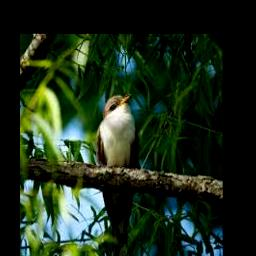Cuckoo: (96, 93, 138, 256)
